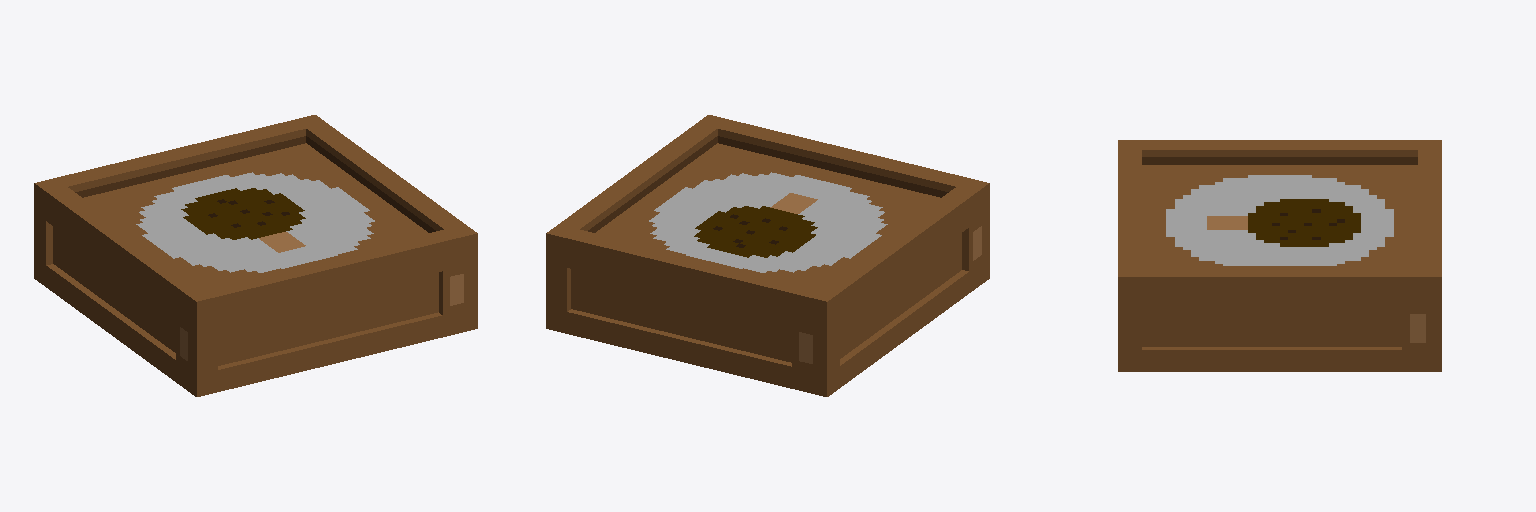
3 renders of one model, left to right at view 1: azimuth 30°, elevation 25°; view 2: azimuth 150°, elevation 25°; view 3: azimuth 270°, elevation 25°, orthographic.
Parts seen in each view (by area): view 1: object 1; view 2: object 1; view 3: object 1.
Boxes of the visible parts, box(x1,y1,x2,y2) form: object 1: box(34, 115, 477, 396); object 1: box(546, 115, 989, 396); object 1: box(1118, 140, 1441, 371).
Bounding box in the file's own units: 4 × 1.3 × 4.
Materials: 1 (1 with a texture image).